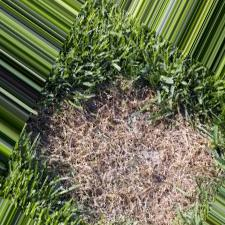patch: (70, 113, 178, 202), (93, 158, 166, 222)
